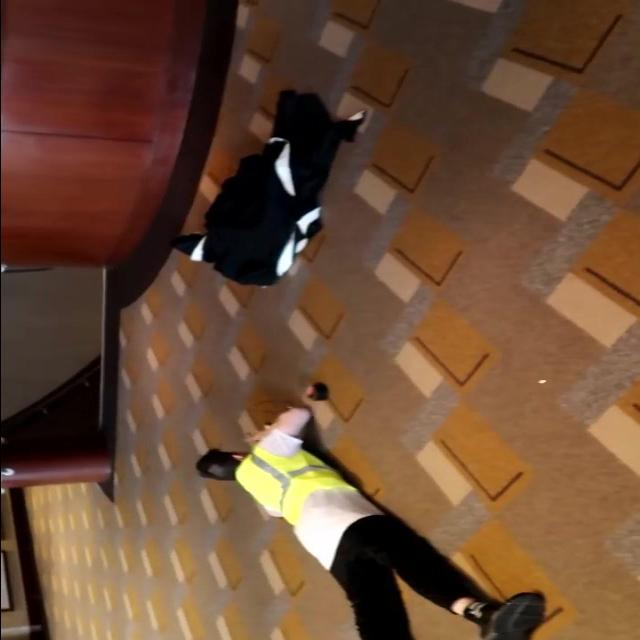jacket: (223, 436, 347, 528)
